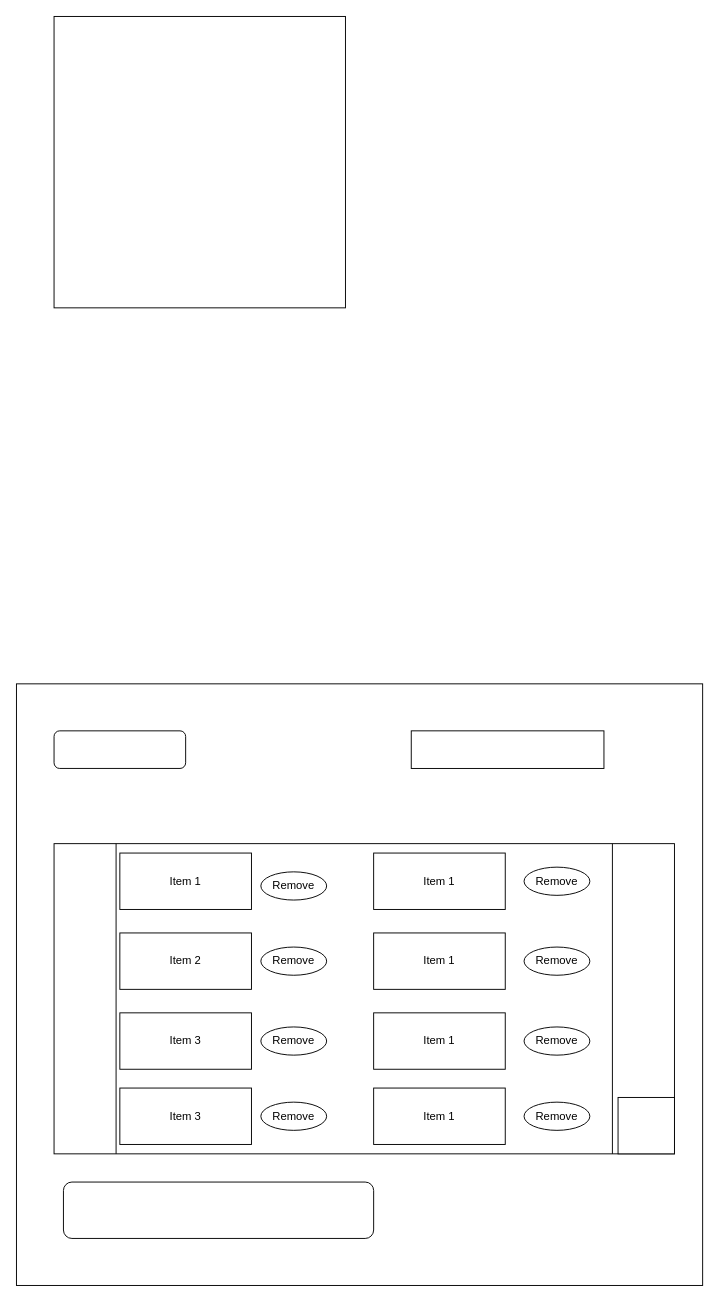
The diagram is 719 pixels wide and 1302 high, and some of its shapes have lost their labels. The shapes that lost their labels are listed below. From the top down, each one's centre as x and y in pixels, then its label:
[119,749]: Student Id
[507,749]: Continue Searching
[645,1125]: Scroll
[218,1209]: Confirm Selection
